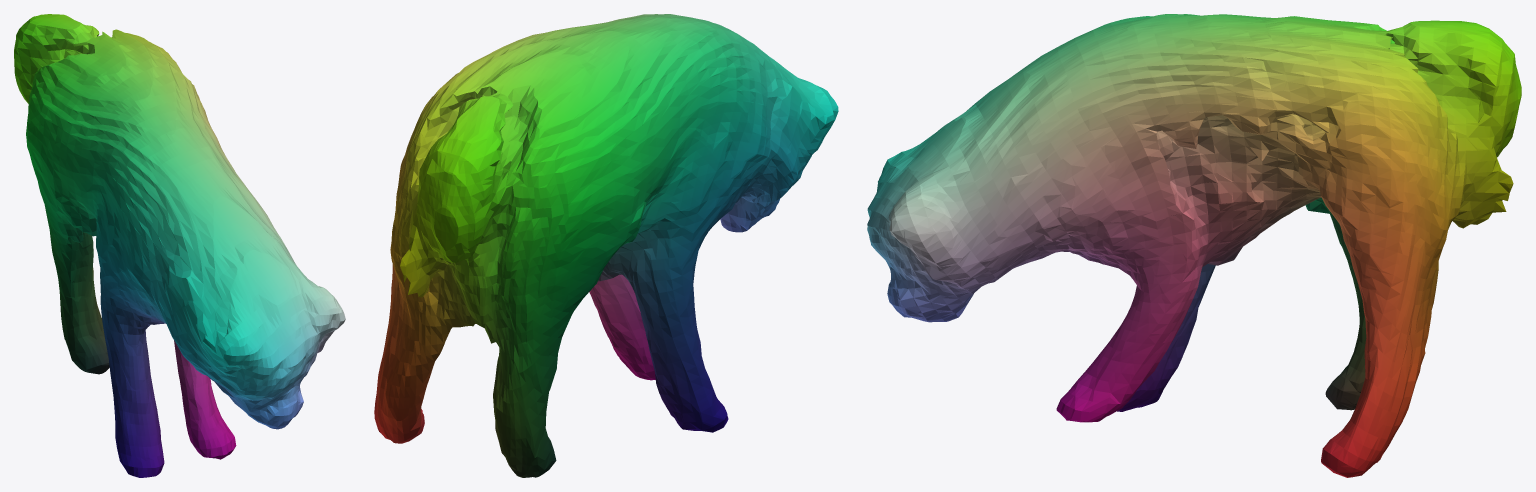
File: shiba-haru-1001-mesh-00059.obj
3 renders of one model, left to right at view 1: azimuth 30°, elevation 25°; view 2: azimuth 150°, elevation 25°; view 3: azimuth 270°, elevation 25°, orthographic. The views are drawn at different scales.
Size of the model in its own units: 0.0513 by 0.0836 by 0.1189.
